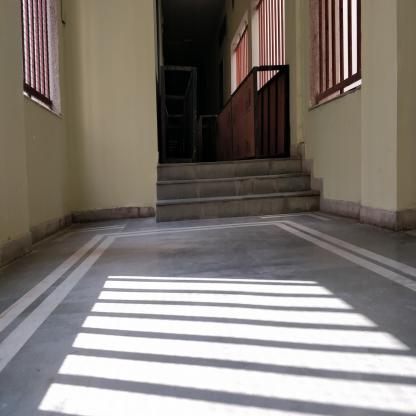stairs: (163, 154, 301, 226)
